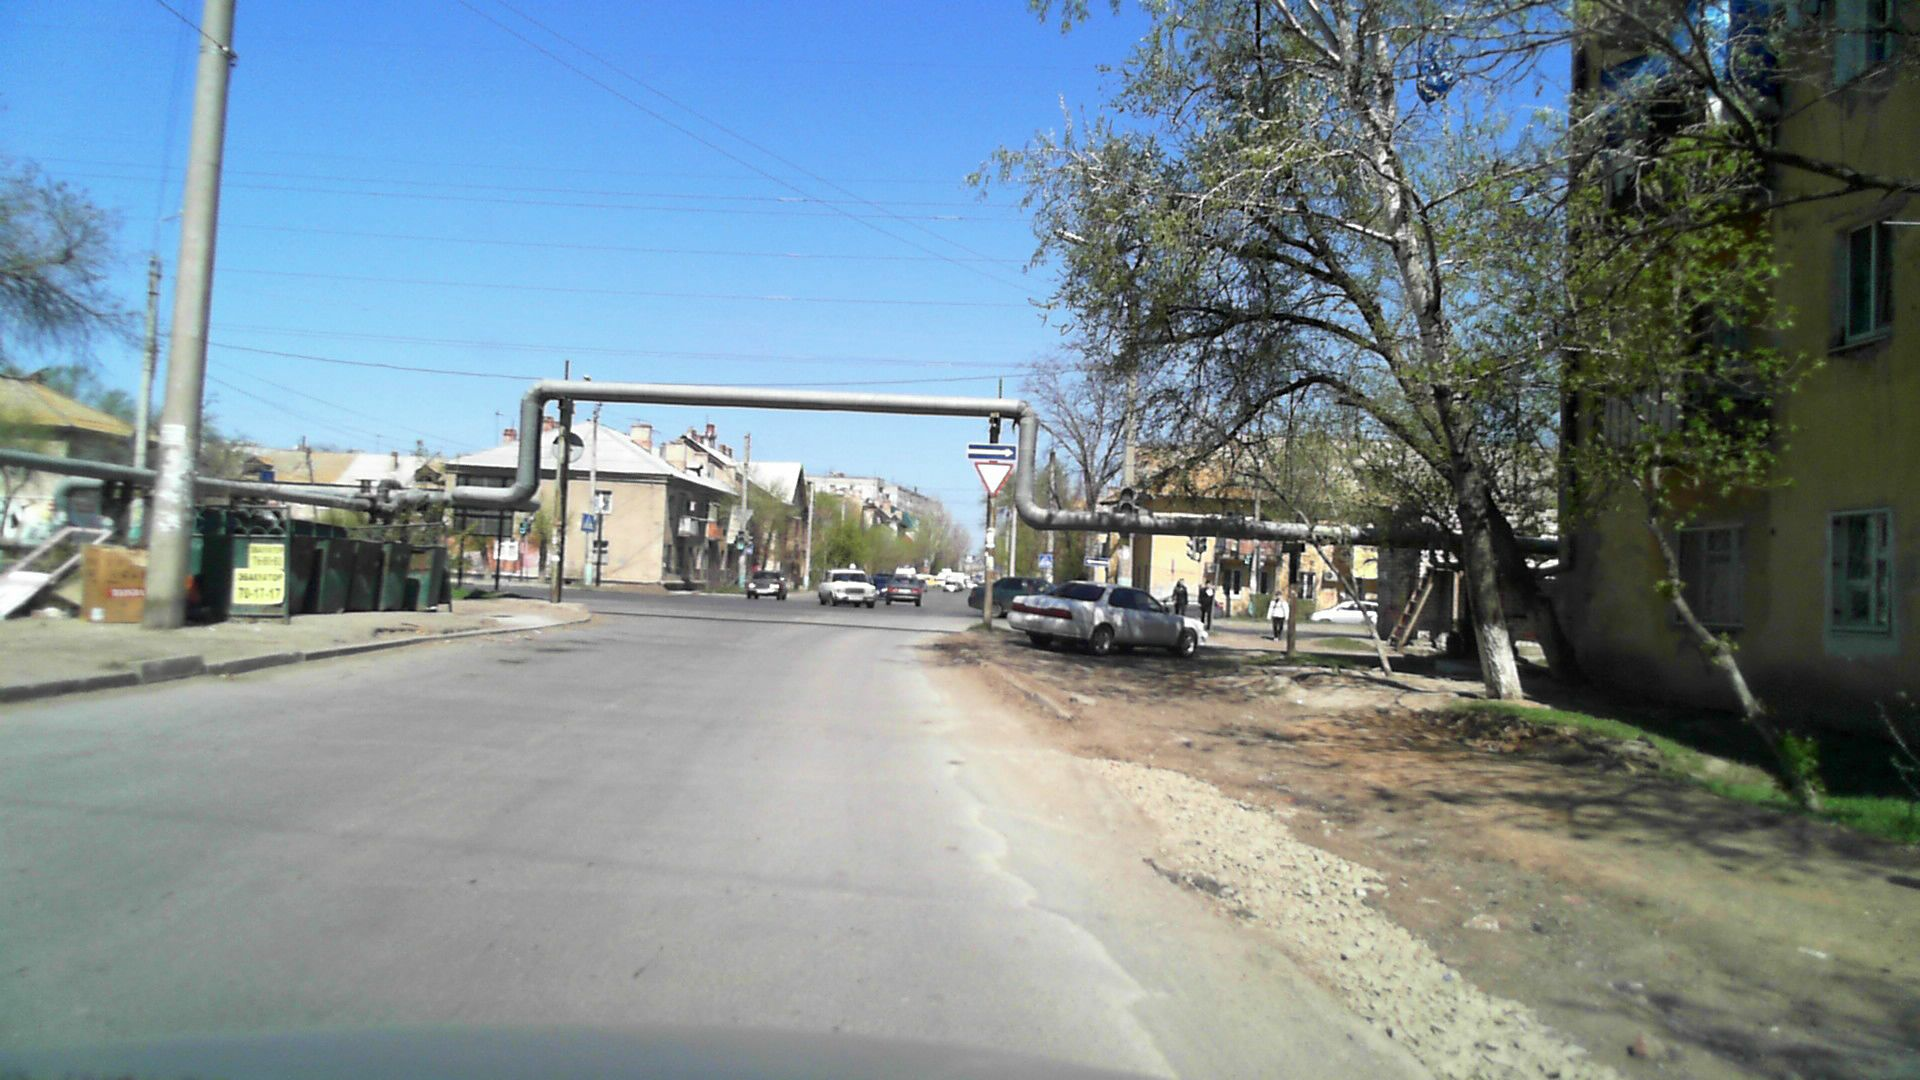One-Way Traffic: (967, 443, 1017, 462)
